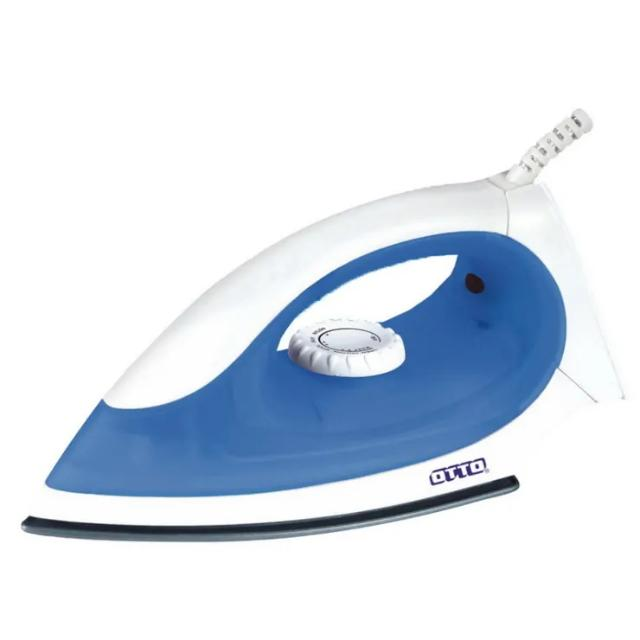Clothes-Iron: (18, 148, 630, 546)
